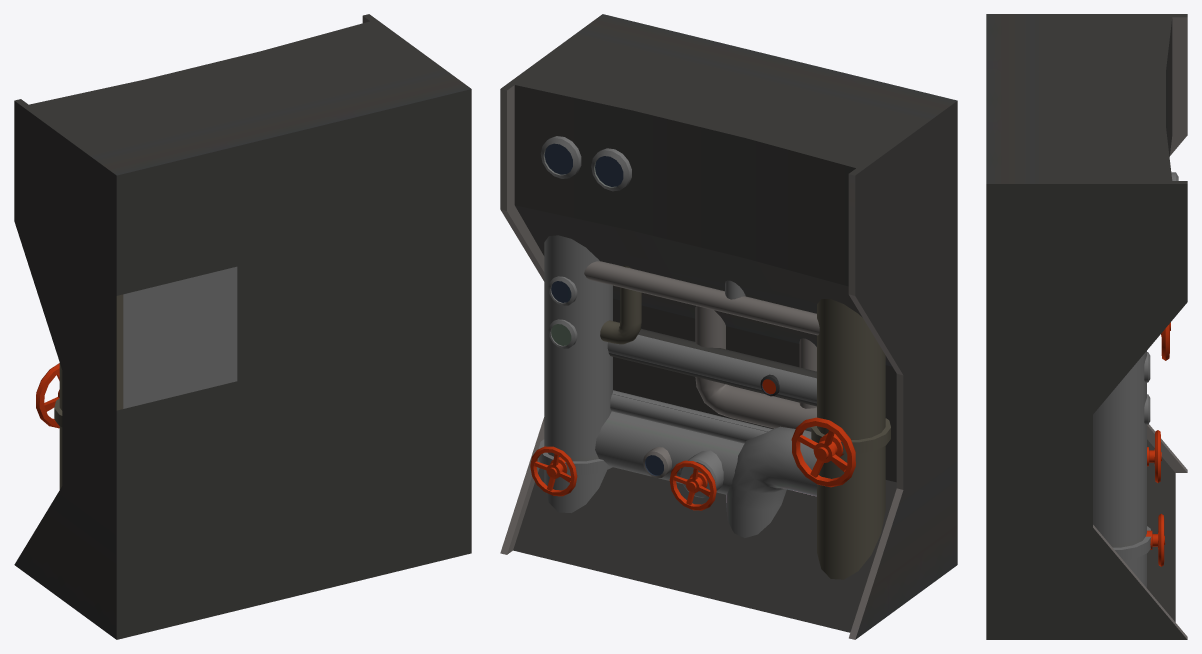
File: Steam_repair_station.glb
3 views of the same model, side by side, from view 1: azimuth 30°, elevation 25°; view 2: azimuth 150°, elevation 25°; view 3: azimuth 270°, elevation 25° (orthographic).
Parts seen in each view (by area): view 1: pCylinder58; view 2: pCylinder58; view 3: pCylinder58.
Boxes of the visible parts, x1,y1,x2,y2 form: pCylinder58: (14, 14, 471, 639); pCylinder58: (500, 14, 957, 639); pCylinder58: (986, 14, 1187, 639).
Size of the model in its own units: 4 by 5 by 2.
1 material, 1 textured.
